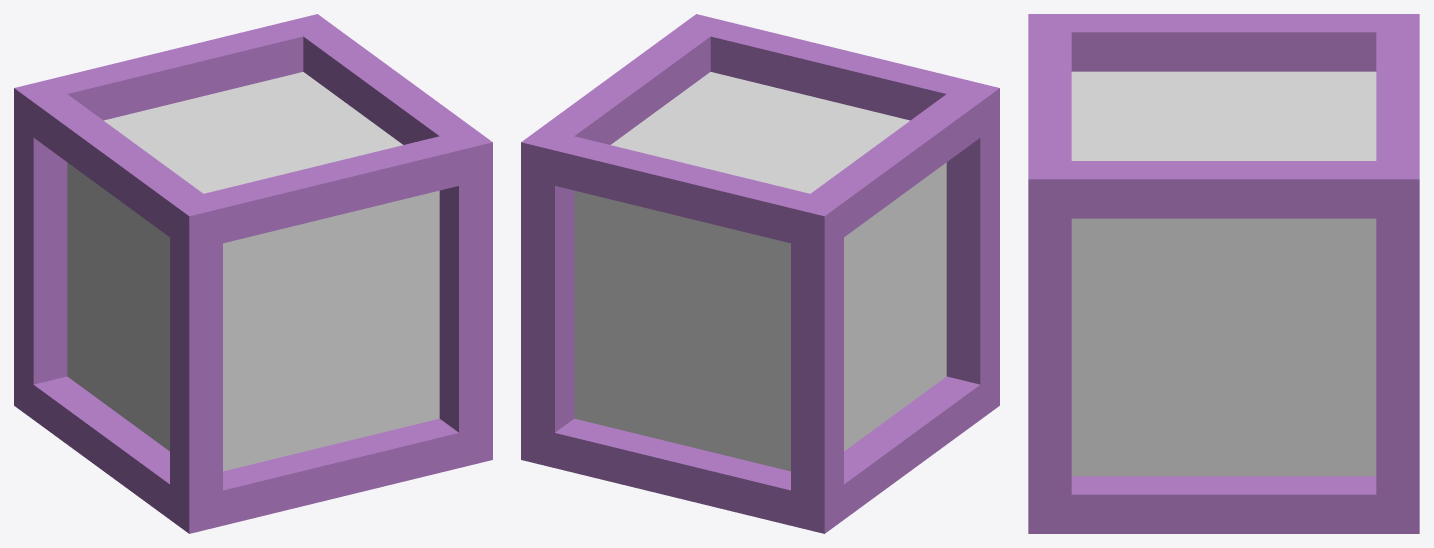
File: classroom_blockPURPLE_v2.fbx
3 views of the same model, side by side, from view 1: azimuth 30°, elevation 25°; view 2: azimuth 150°, elevation 25°; view 3: azimuth 270°, elevation 25° (orthographic). The views are drawn at different scales.
Parts seen in each view (by area): view 1: pCube15; view 2: pCube15; view 3: pCube15.
Part boxes in pixels (bbox=[...]): pCube15: bbox=[14, 14, 492, 533]; pCube15: bbox=[521, 14, 999, 533]; pCube15: bbox=[1028, 14, 1419, 533].
Bounding box in the file's own units: 1 × 1 × 1.
